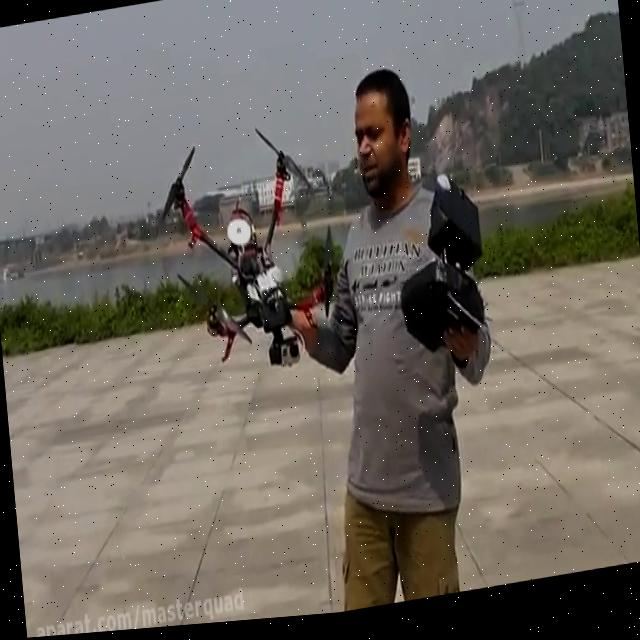drone: (148, 113, 346, 391)
